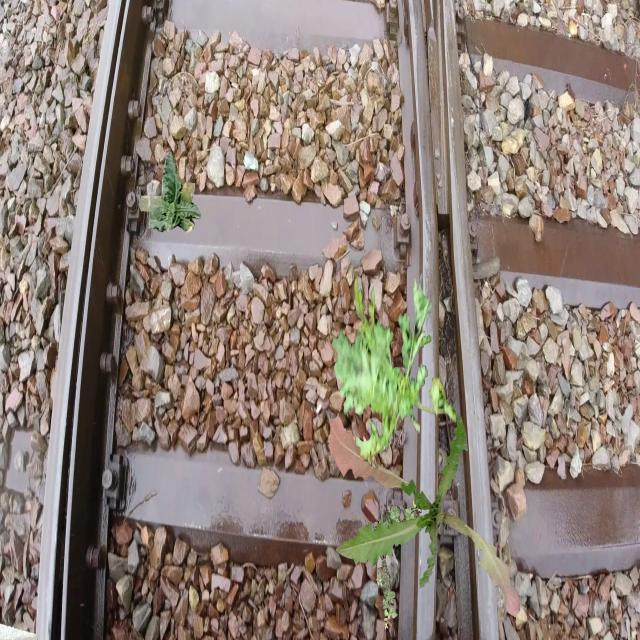Plant: (328, 415, 520, 618), (332, 273, 457, 469), (373, 493, 422, 631), (138, 150, 202, 233)
